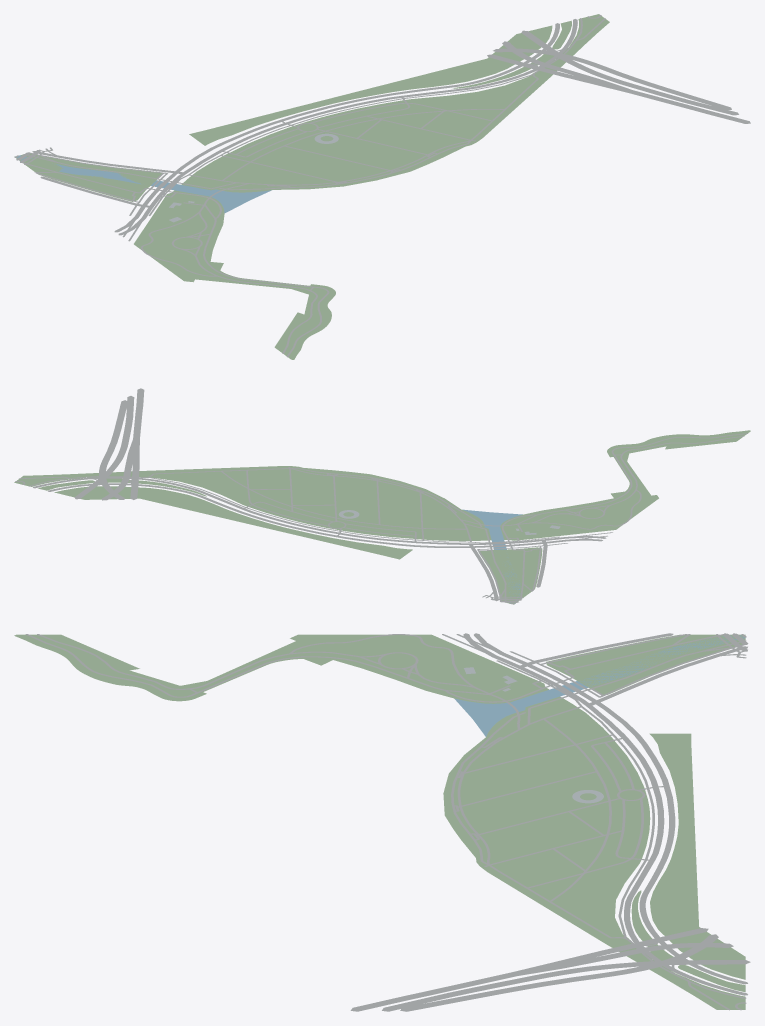
Rendered from -9_-6-known-fine.glb.
The picture shows the model from 3 angles, top to bottom: view 1: azimuth 30°, elevation 25°; view 2: azimuth 150°, elevation 25°; view 3: azimuth 270°, elevation 25°; orthographic projection. The views are drawn at different scales.
Bounding box in the file's own units: 1010 × 0.15 × 831.
